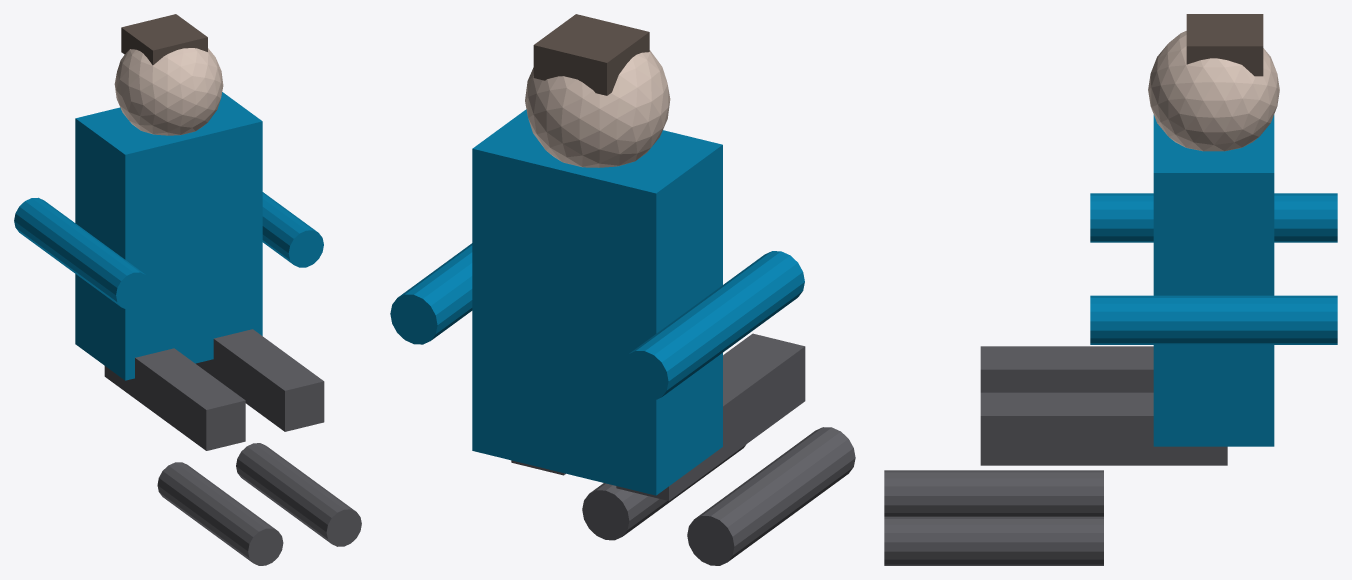
Rendered from miembro_mesa.glb.
3 renders of one model, left to right at view 1: azimuth 30°, elevation 25°; view 2: azimuth 150°, elevation 25°; view 3: azimuth 270°, elevation 25°, orthographic. The views are drawn at different scales.
Parts seen in each view (by area): view 1: torso, head, left_leg, right_leg, left_arm, right_calf, left_calf, right_arm, hair; view 2: torso, head, left_arm, left_calf, left_leg, hair, right_arm, right_calf; view 3: torso, right_leg, right_arm, right_calf, head, left_calf, left_leg, left_arm, hair.
Boxes of the visible parts, x1,y1,x2,y2 form: torso: (75, 92, 262, 380); head: (114, 48, 223, 135); left_leg: (104, 348, 245, 450); right_leg: (196, 329, 324, 431); left_arm: (14, 197, 151, 309); right_calf: (236, 443, 361, 546); left_calf: (157, 462, 283, 565); right_arm: (262, 192, 323, 267); hair: (121, 14, 207, 65); torso: (472, 109, 722, 495); head: (525, 50, 670, 167); left_arm: (621, 251, 804, 400); left_calf: (687, 427, 855, 565); left_leg: (616, 333, 805, 500); hair: (533, 14, 649, 95); right_arm: (390, 243, 472, 344); right_calf: (582, 445, 745, 540); torso: (1153, 115, 1274, 446); right_leg: (980, 392, 1227, 465); right_arm: (1090, 295, 1337, 344); right_calf: (884, 516, 1103, 565); head: (1148, 31, 1279, 151); left_calf: (884, 470, 1103, 516); left_leg: (980, 346, 1153, 392); left_arm: (1090, 193, 1337, 242); hair: (1186, 14, 1263, 76).
Size of the model in its own units: 0.53 by 1.02 by 0.825.
